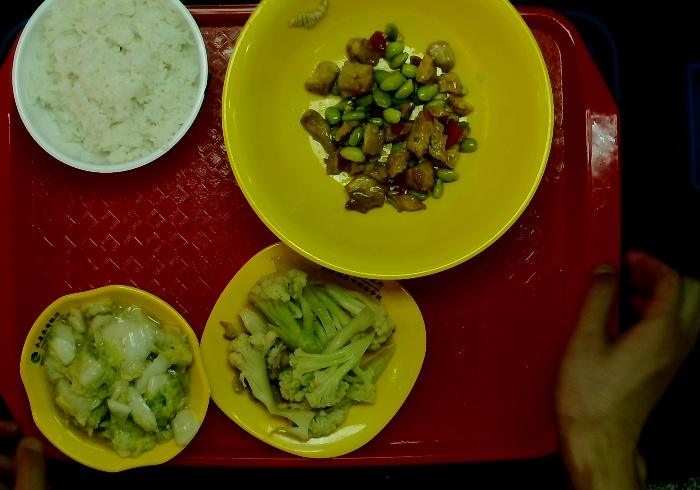YKMZ-Fan_Wan: (6, 1, 205, 172)
YKMZ-Huang_Se_Ao_Bian_Wan: (20, 283, 211, 474)
YKMZ-Huang_Se_Fang_Die: (201, 238, 429, 455)
YKMZ-Huang_Se_Tang_Wan: (220, 1, 558, 285)
